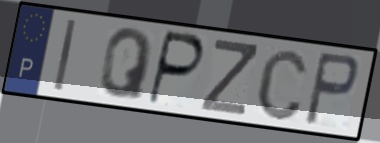C: (254, 46, 310, 123)
I: (52, 17, 79, 94)
P: (145, 28, 207, 108), (301, 50, 361, 129)
Q: (97, 26, 155, 102)
Z: (198, 36, 260, 118)
